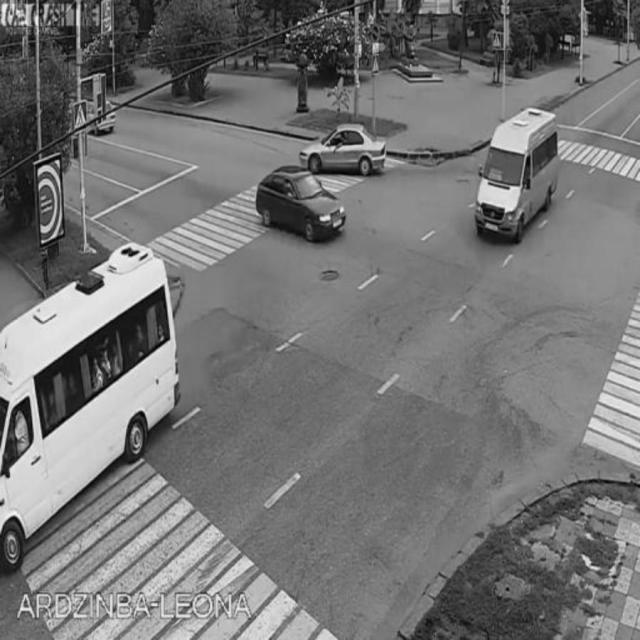vehicle: (2, 255, 180, 541), (468, 105, 562, 252), (258, 166, 341, 243), (308, 127, 386, 175)
